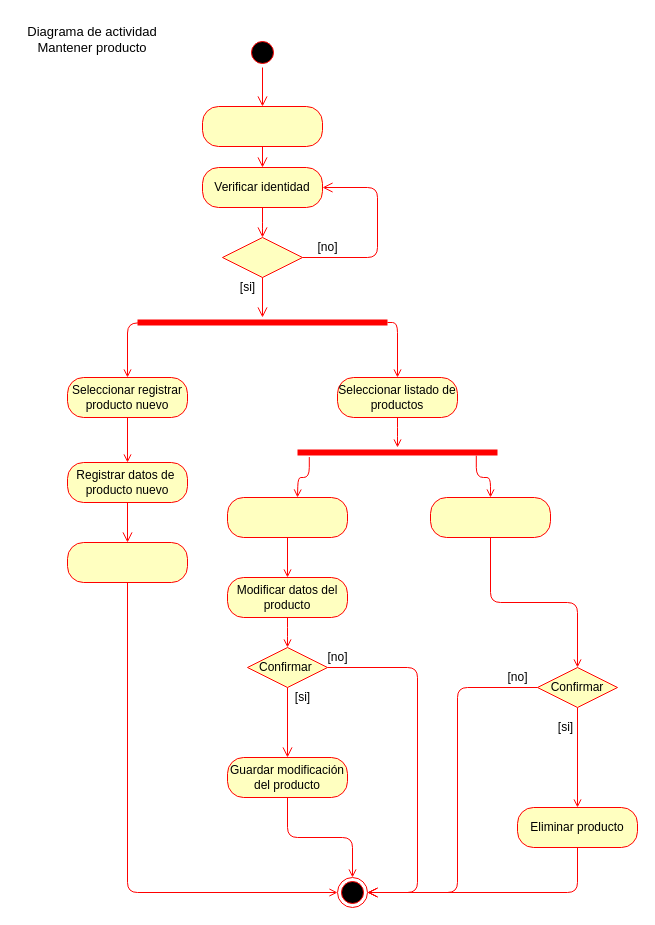
Image size: 655x925. Some labels were removed from this diagram. Here are the shapes that lost their labels. From the top down, the centre of each, then its label:
(262,126): Acceder al sistema
(262,257): usuario válido
(287,517): Seleccionar producto a Modificar
(490,517): Seleccionar producto a Eliminar
(127,562): Guardar Datos del producto nuevo
